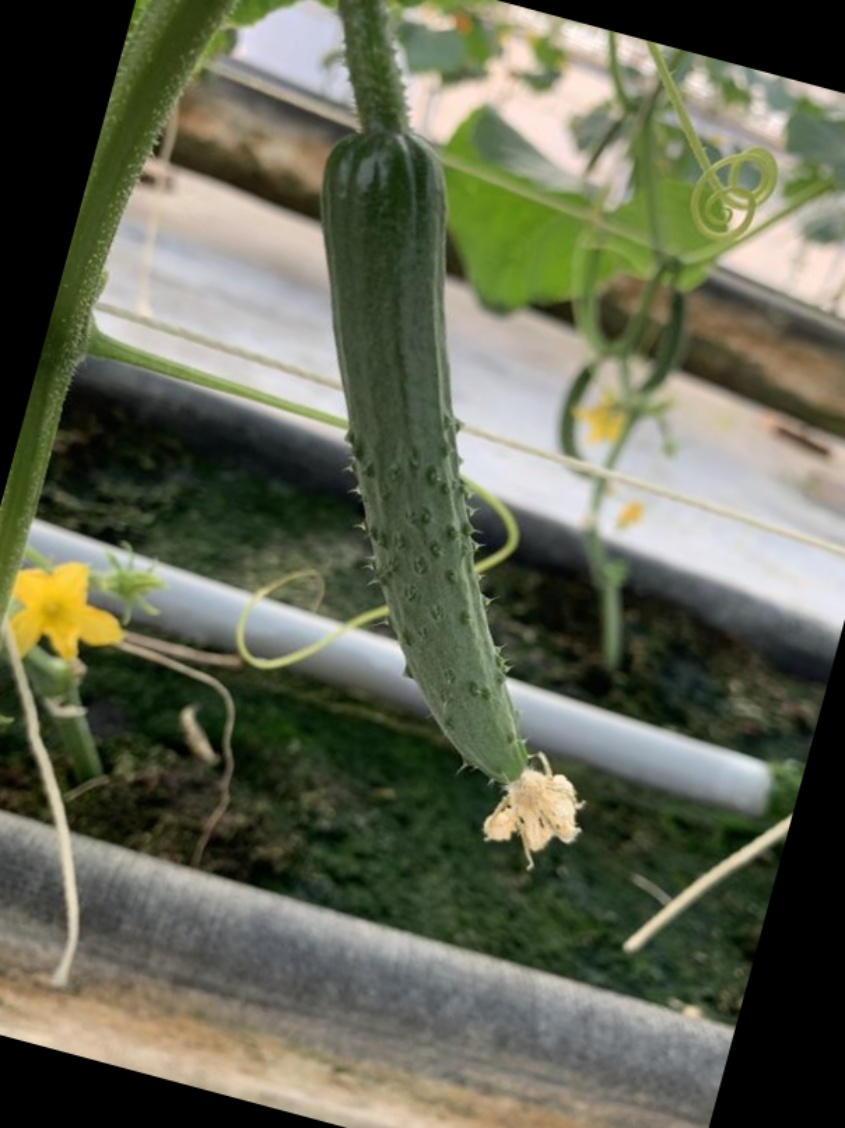growth: (290, 88, 572, 846)
